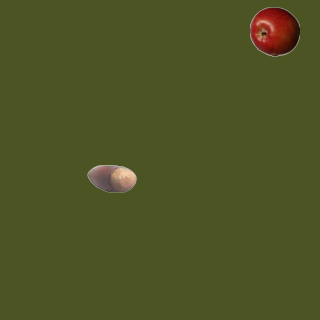Apple Braeburn: (249, 6, 299, 56)
Hazelnut: (86, 153, 136, 203)
